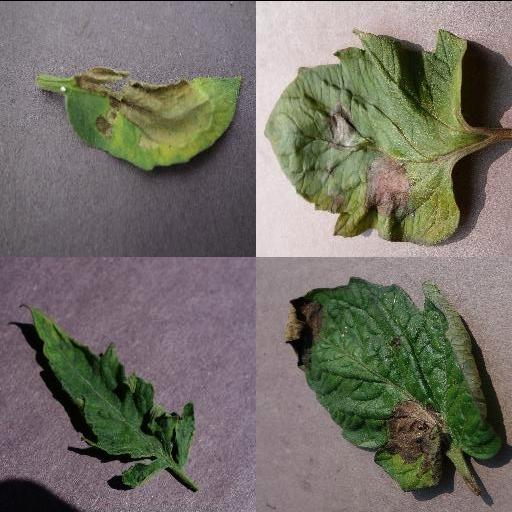Late Blight: (285, 275, 503, 491), (262, 27, 470, 247), (63, 64, 243, 172)
Mosaic Virus: (19, 303, 199, 487)
